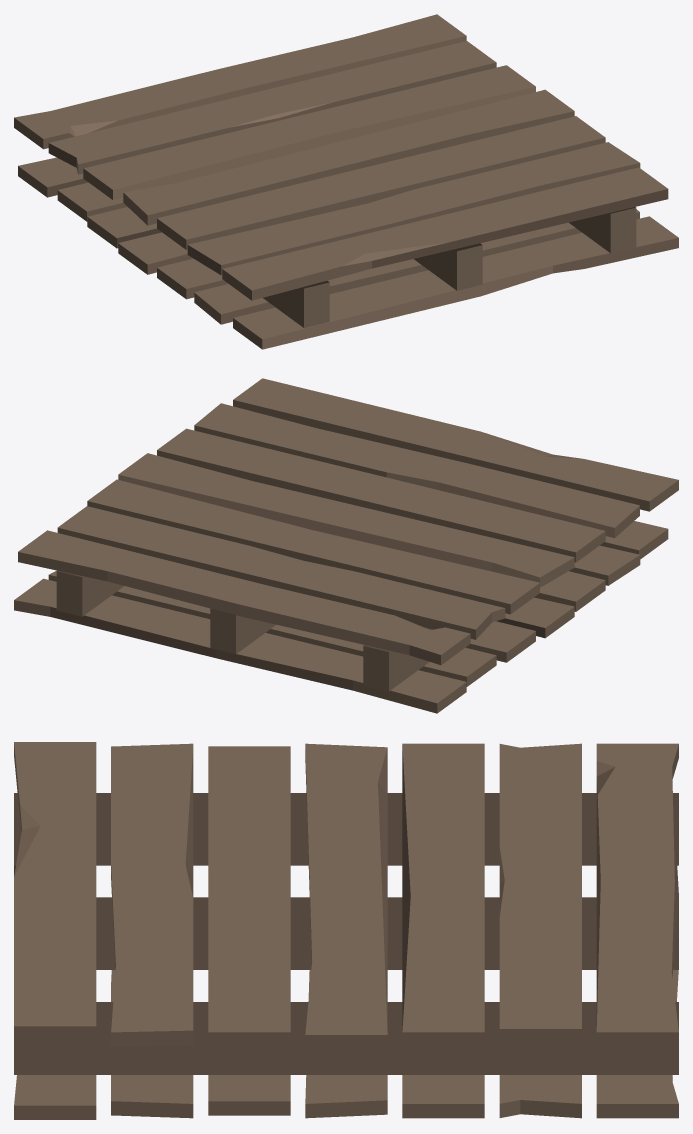
File: model_wood_pallet.fbx
3 views of the same model, one above another, from view 1: azimuth 30°, elevation 25°; view 2: azimuth 150°, elevation 25°; view 3: azimuth 270°, elevation 25° (orthographic). The views are drawn at different scales.
Parts seen in each view (by area): view 1: model_wood_pallet; view 2: model_wood_pallet; view 3: model_wood_pallet.
Part boxes in pixels (left/top/right/bottom): model_wood_pallet: left=14, top=14, right=678, bottom=349; model_wood_pallet: left=14, top=378, right=678, bottom=713; model_wood_pallet: left=14, top=742, right=678, bottom=1119.
Size of the model in its own units: 188 by 25.96 by 181.
Materials: 1 (1 with a texture image).
